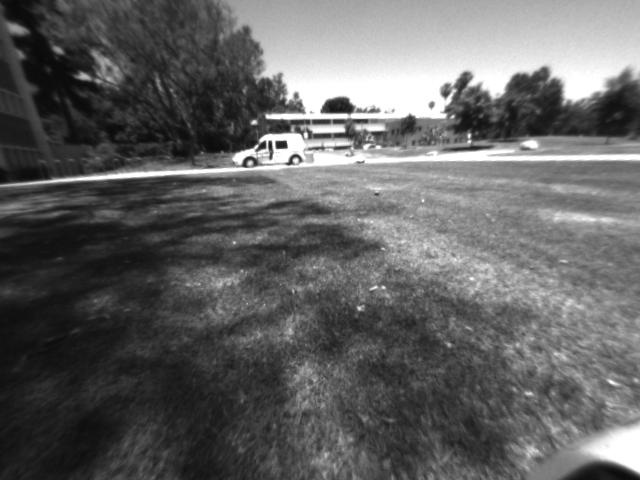dogtoy: (367, 182, 387, 201)
